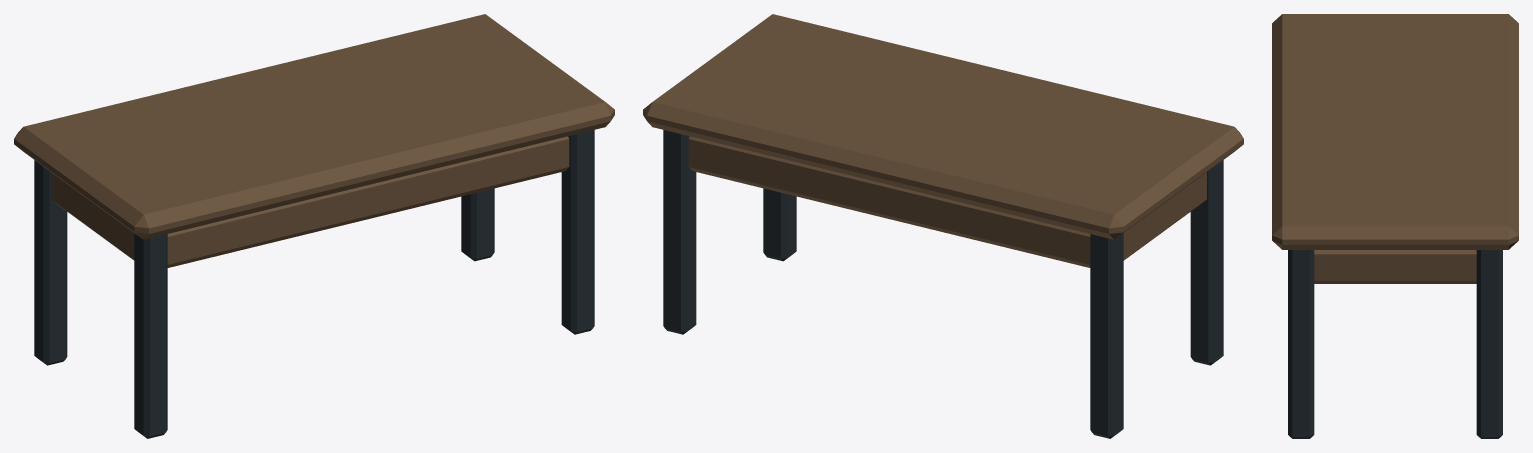
File: table-Bk6nI00p.glb
The picture shows the model from 3 angles, left to right: view 1: azimuth 30°, elevation 25°; view 2: azimuth 150°, elevation 25°; view 3: azimuth 270°, elevation 25°; orthographic projection. The views are drawn at different scales.
Visible parts, largest first — view 1: tapered foot; view 2: tapered foot; view 3: tapered foot.
Boxes of the visible parts, bbox=[...] form: tapered foot: bbox=[14, 14, 614, 438]; tapered foot: bbox=[643, 14, 1243, 438]; tapered foot: bbox=[1272, 14, 1518, 438].
Bounding box in the file's own units: 1.8 × 0.825 × 0.85.
